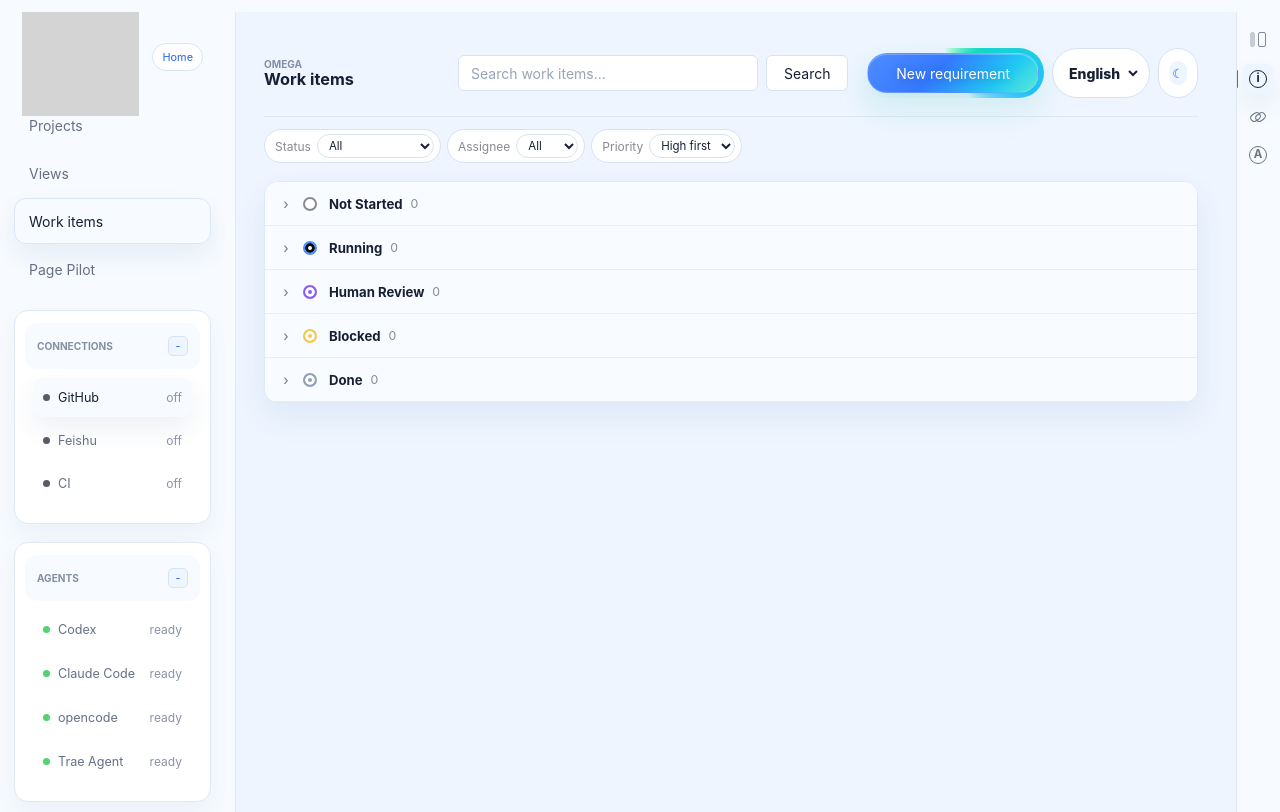
App operator view › renders execution locks, runner process telemetry, and pipeline stages
The width and height of the screenshot is (1280, 812).
Expected: the text "Not Started" is shown, [329,196,403,212]
Expected: the text "Running" is shown, [329,240,382,256]
Click the button "Views". click: (112, 173)
box: [14,150,211,196]
(page scrolled)
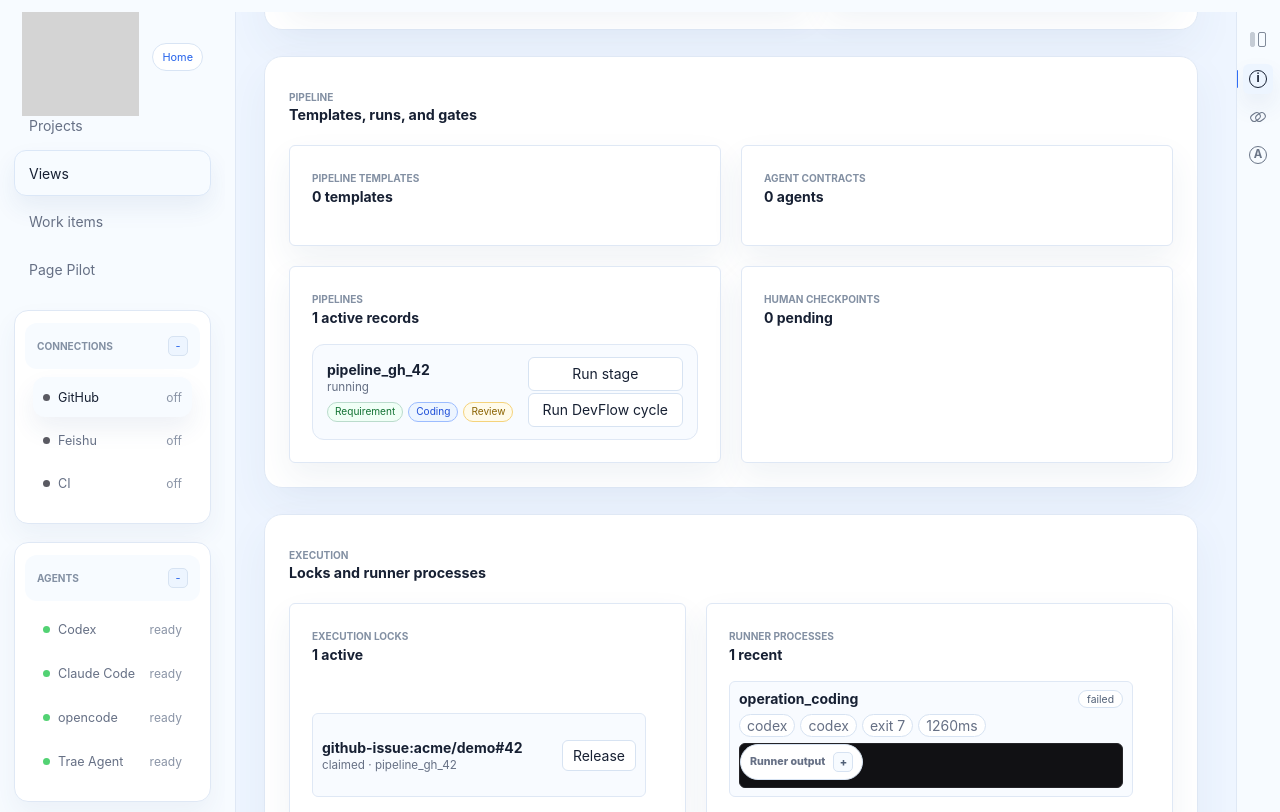
Expected: the text "Execution locks" is shown, [312,630,408,642]
Expected: the text "github-issue:acme/demo#42" is shown, [322,738,552,756]
Expected: the text "Runner processes" is shown, [729,630,834,642]
